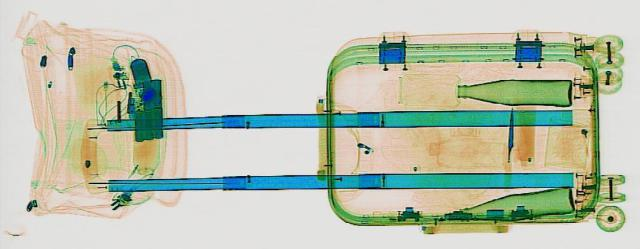Knife: (505, 106, 515, 159)
